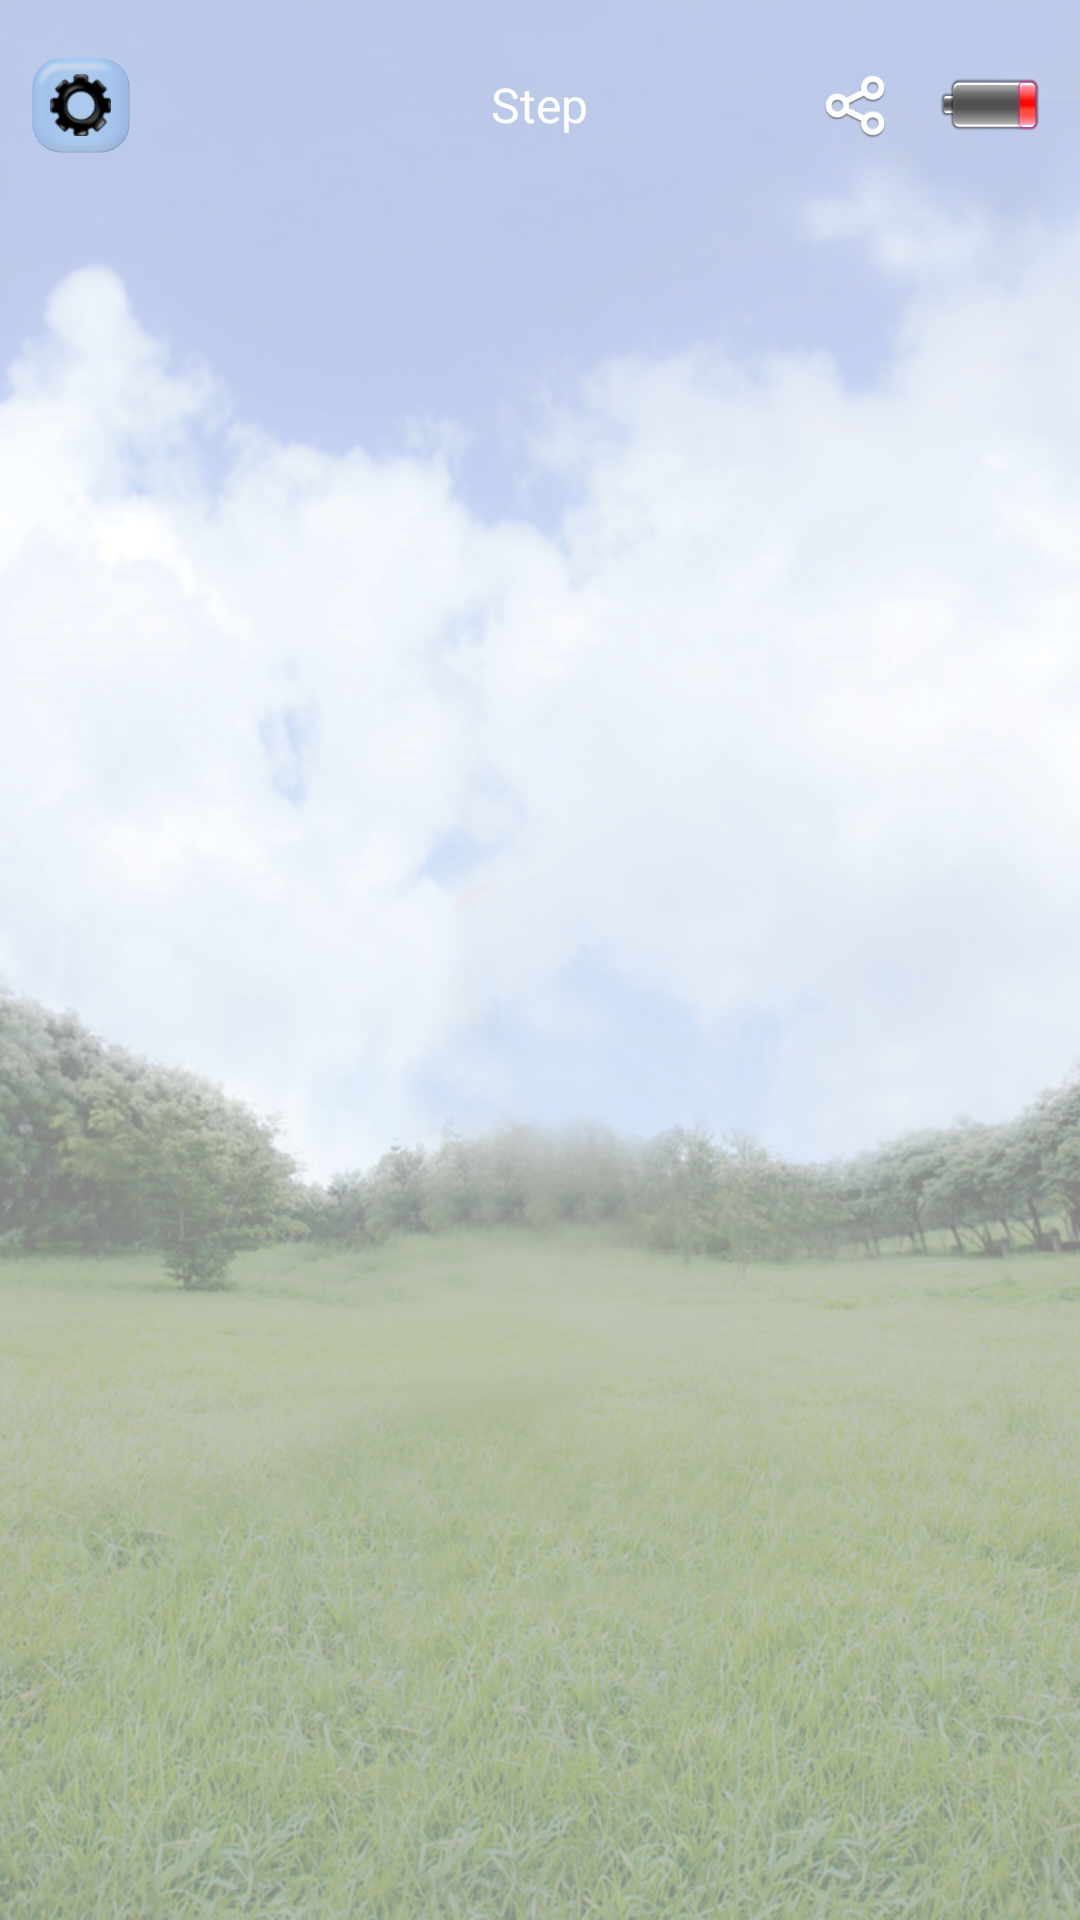

Icon bounding boxes for this 1080 × 1920 phone screenshot, format bbox=[x1, y1, x2, y2]:
battery bar: bbox=[941, 79, 1039, 130]
settings day: bbox=[32, 58, 130, 153]
share: bbox=[825, 76, 885, 137]
